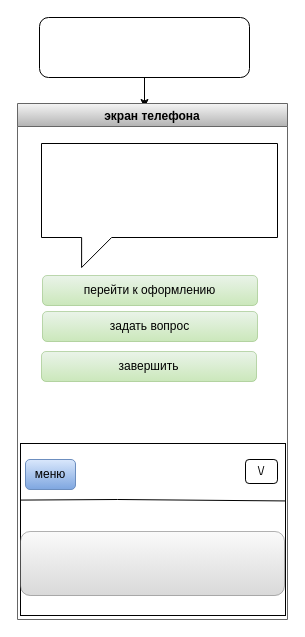
This 305x637 diagram has some shape labels left out. The shapes that lost their labels are listed below. From the top down, each one's centre as x and y in pixels, then its label:
At (144,47): "Пользователь нажал кнопку [корзина]".
At (159,205): "товарА 1 шт 12,5 руб товарБ 15 шт 4 руб итого: 16,5 руб".
At (152,563): "корзина: 2".
